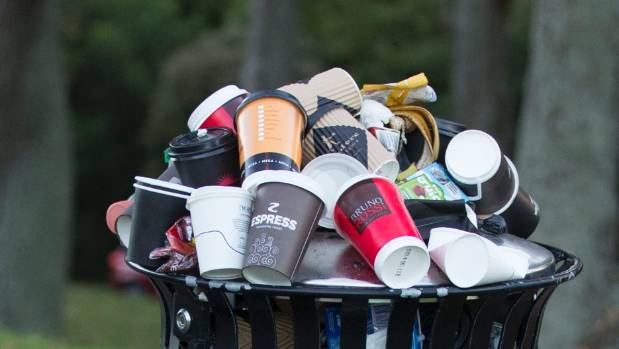cup: (331, 167, 435, 295), (440, 119, 526, 218), (120, 170, 198, 279), (233, 83, 313, 183), (186, 180, 253, 280), (165, 121, 245, 191), (182, 81, 254, 130)
